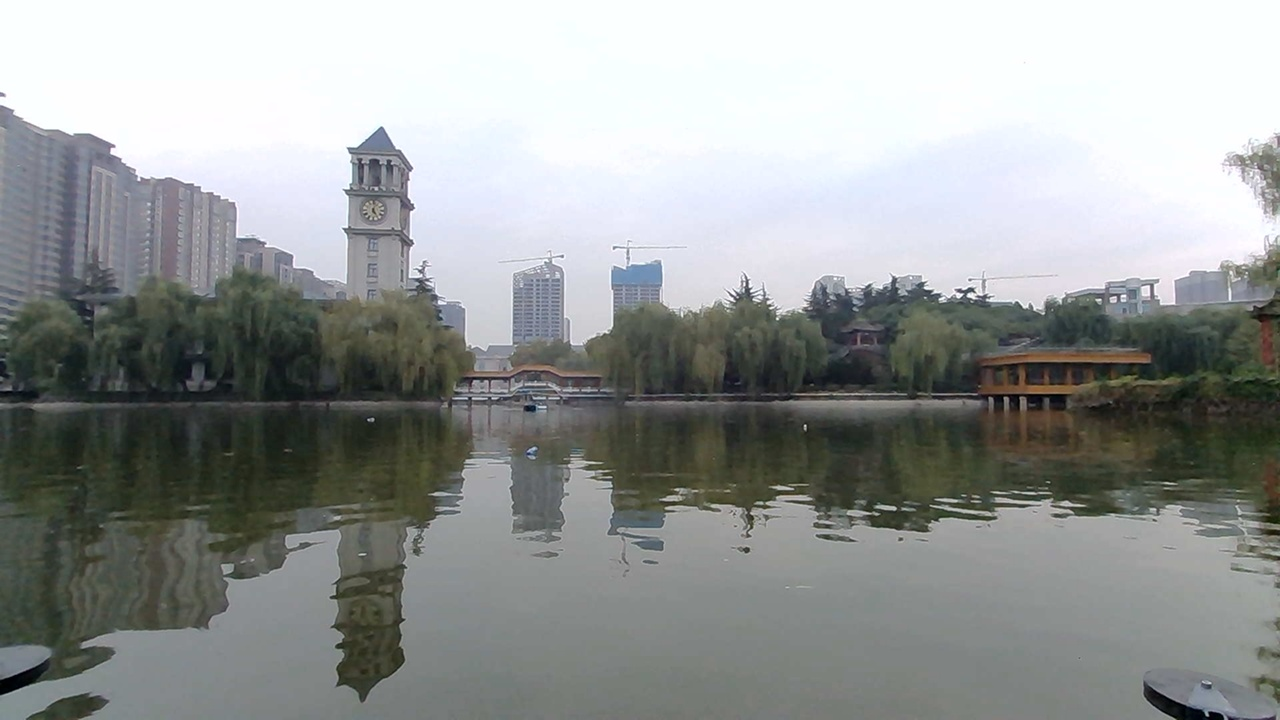bottle: (518, 433, 559, 462), (794, 418, 825, 439), (364, 408, 390, 427)
